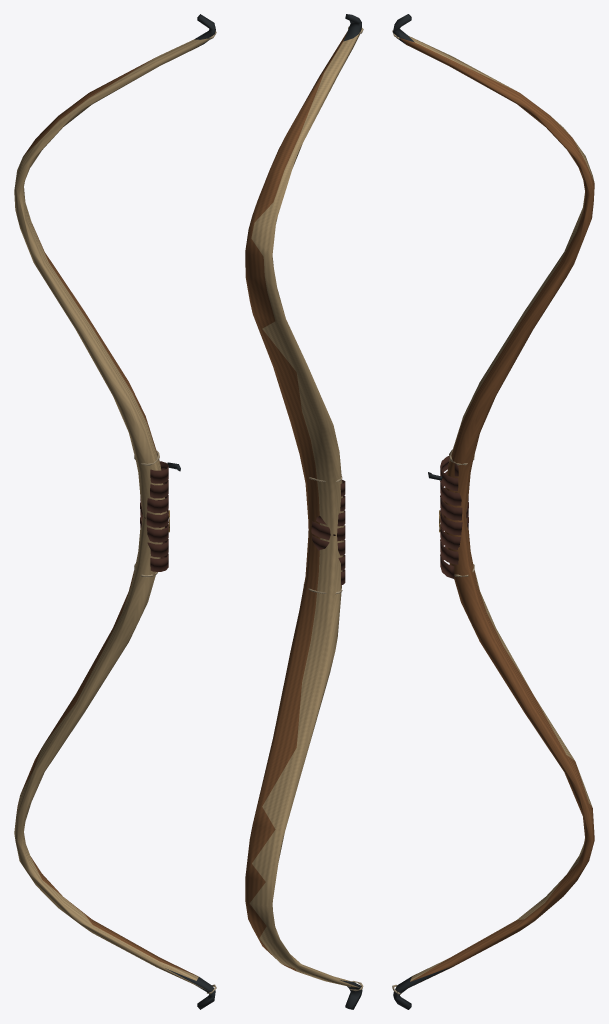
Rendered from bow_lod2.glb.
The picture shows the model from 3 angles, left to right: view 1: azimuth 90°, elevation 25°; view 2: azimuth 150°, elevation 25°; view 3: azimuth 270°, elevation 25°; orthographic projection.
Parts seen in each view (by area): view 1: BowMesh_LOD2; view 2: BowMesh_LOD2; view 3: BowMesh_LOD2.
Part boxes in pixels (box(x1,y1,x2,y2)): BowMesh_LOD2: box(14, 14, 216, 1009); BowMesh_LOD2: box(245, 14, 363, 1009); BowMesh_LOD2: box(392, 14, 594, 1009).
Size of the model in its own units: 0.0654 by 1.48 by 0.2725.
Materials: 6 (4 with a texture image).
